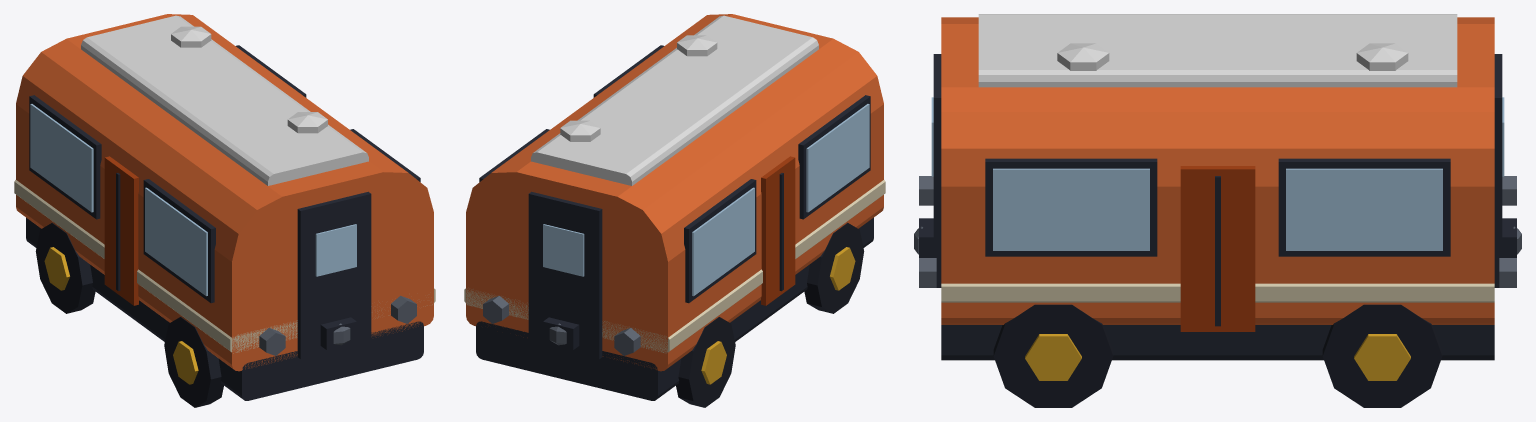
Rendered from train_car_orange.glb.
The picture shows the model from 3 angles, left to right: view 1: azimuth 30°, elevation 25°; view 2: azimuth 150°, elevation 25°; view 3: azimuth 270°, elevation 25°; orthographic projection. The views are drawn at different scales.
Parts seen in each view (by area): view 1: train_car_orange; view 2: train_car_orange; view 3: train_car_orange.
Part boxes in pixels (left/top/right/bottom): train_car_orange: left=14, top=14, right=435, bottom=407; train_car_orange: left=464, top=14, right=885, bottom=407; train_car_orange: left=914, top=14, right=1521, bottom=407.
Bounding box in the file's own units: 2.13 × 2.33 × 4.06.
